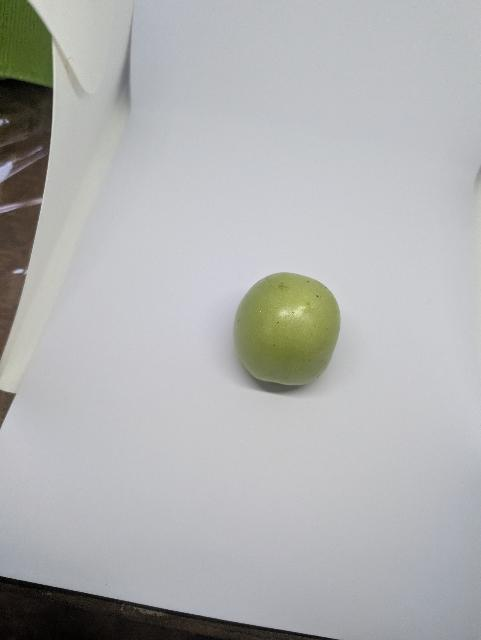green: (227, 259, 353, 409)
